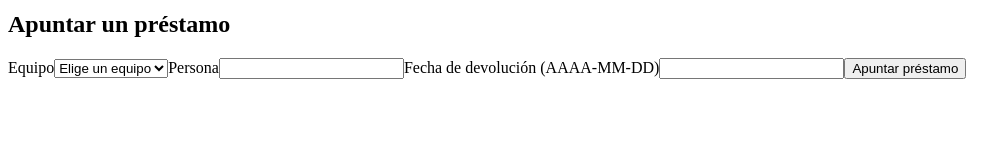
Test: pantalla Apuntar un préstamo › enseña tal cual el mensaje de la API con un 409: El equipo ya está prestado
Step 1. Select "Portátil 07" in the dropdown labelled "Equipo" → [111, 68], box 54,59 -> 168,78
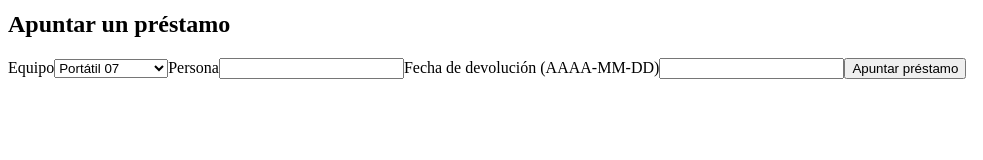
Step 2. Type "Ana Pérez" into the field labelled "Persona" → [311, 68], box 219,58 -> 404,79
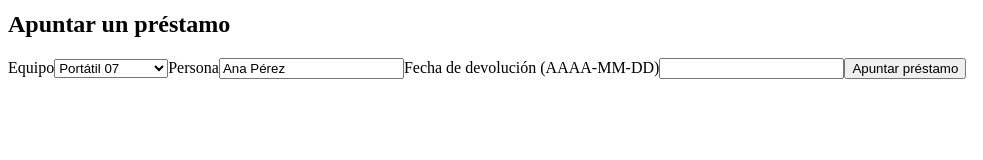
Step 3. Type "2026-12-15" into the field labelled "Fecha de devolución (AAAA-MM-DD)" → [752, 68], box 659,58 -> 844,79
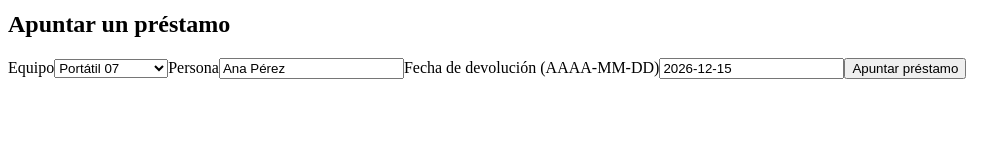
Step 4. Click the button "Apuntar préstamo" → [905, 68], box 844,58 -> 966,79
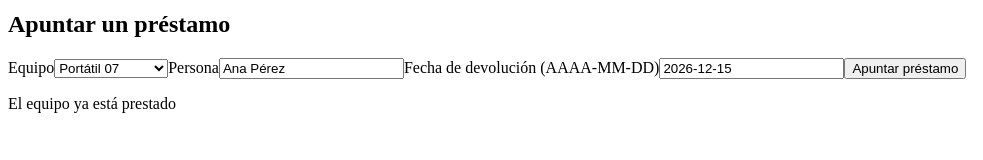
Now the message reads "El equipo ya está prestado", box 8,95 -> 176,112
